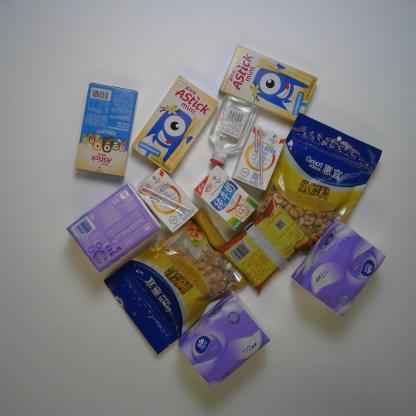Alcohol: (207, 92, 260, 168)
Dessert: (129, 75, 220, 175), (218, 44, 319, 124), (75, 82, 139, 178)
Dried Fruit: (103, 208, 251, 356), (243, 111, 383, 259)
Milk: (193, 164, 260, 232), (134, 166, 199, 234), (231, 123, 287, 192)
Seasoner: (217, 196, 315, 294)
Tissue: (290, 218, 386, 318), (178, 290, 270, 390), (66, 183, 162, 274)
